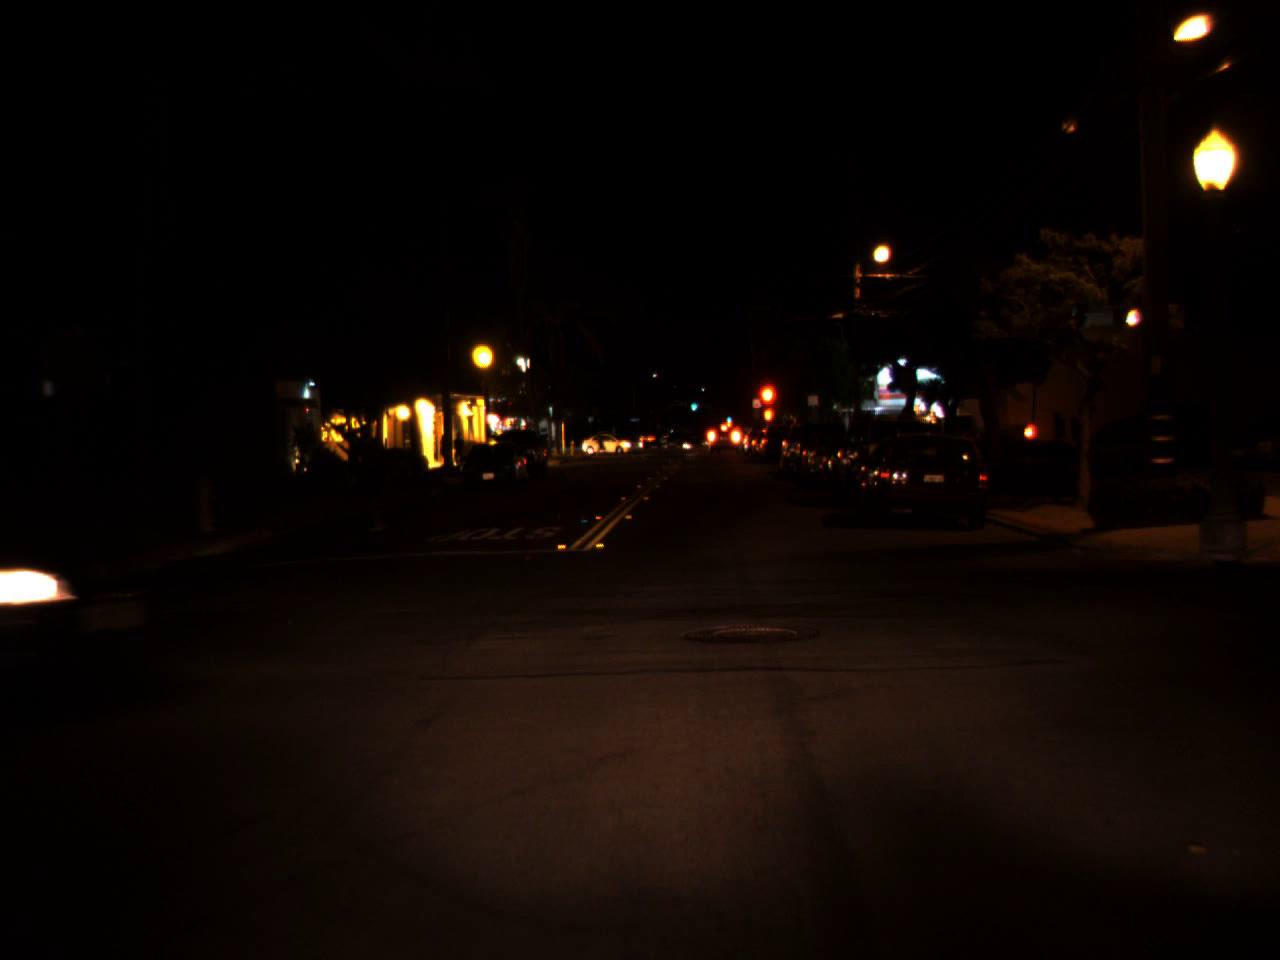go: (689, 396, 698, 411), (725, 411, 732, 423)
stop: (756, 384, 780, 432)
